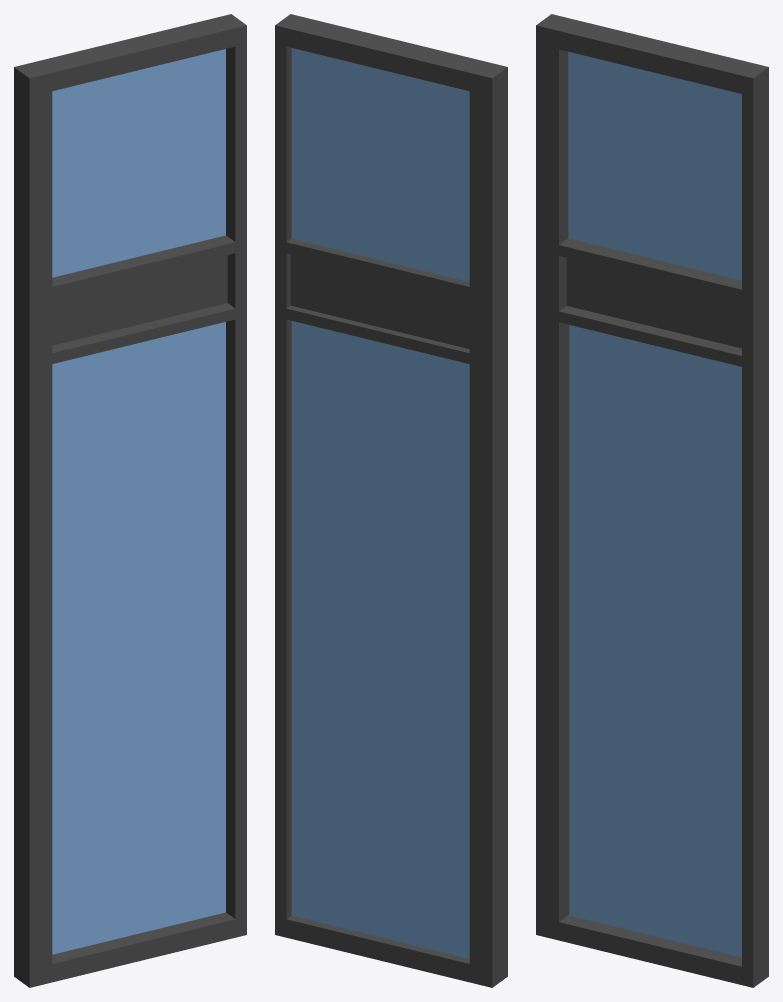
File: SM_DoorFrame_Left.fbx
The picture shows the model from 3 angles, left to right: view 1: azimuth 30°, elevation 25°; view 2: azimuth 150°, elevation 25°; view 3: azimuth 330°, elevation 25°; orthographic projection.
Visible parts, largest first — view 1: SM_DoorFrame_Left; view 2: SM_DoorFrame_Left; view 3: SM_DoorFrame_Left.
Part boxes in pixels (x1,y1,x2,y2): SM_DoorFrame_Left: [14, 14, 246, 987]; SM_DoorFrame_Left: [275, 14, 507, 987]; SM_DoorFrame_Left: [536, 14, 768, 987].
Bounding box in the file's own units: 100 × 400 × 12.38.
